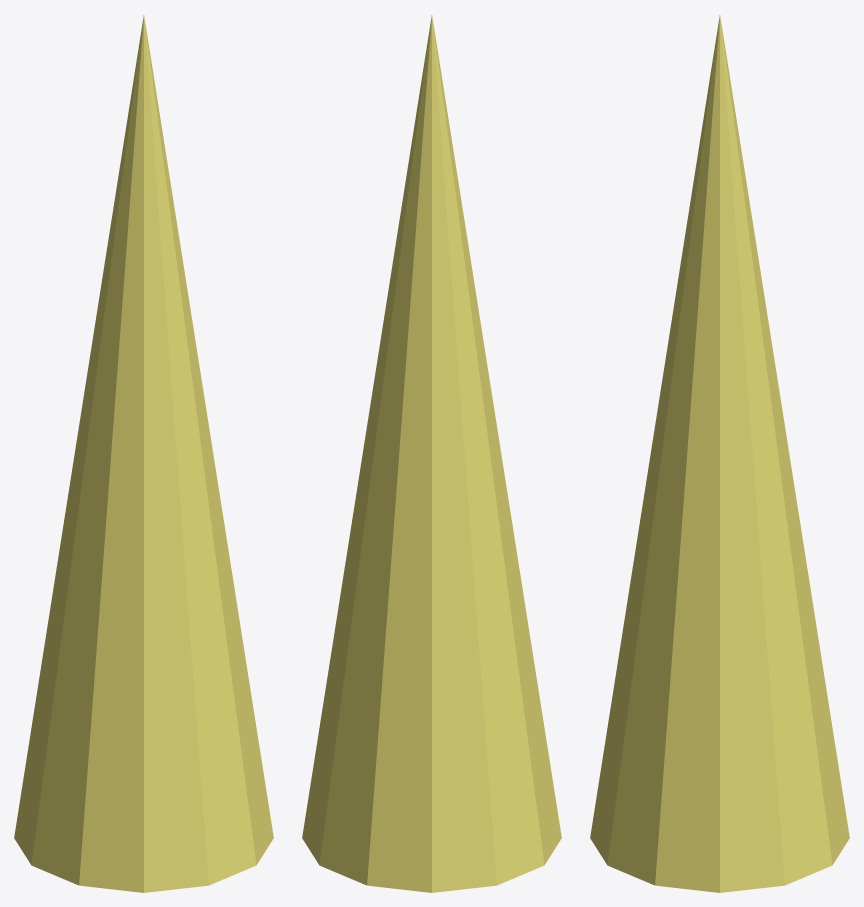
The model's file is Parasol_Close.obj.
3 renders of one model, left to right at view 1: azimuth 30°, elevation 25°; view 2: azimuth 150°, elevation 25°; view 3: azimuth 270°, elevation 25°, orthographic.
Visible parts, largest first — view 1: Parasol_Close; view 2: Parasol_Close; view 3: Parasol_Close.
Boxes of the visible parts, x1,y1,x2,y2 form: Parasol_Close: [14, 15, 273, 892]; Parasol_Close: [302, 15, 561, 892]; Parasol_Close: [590, 15, 849, 892].
Size of the model in its own units: 0.2 by 0.7 by 0.2.
